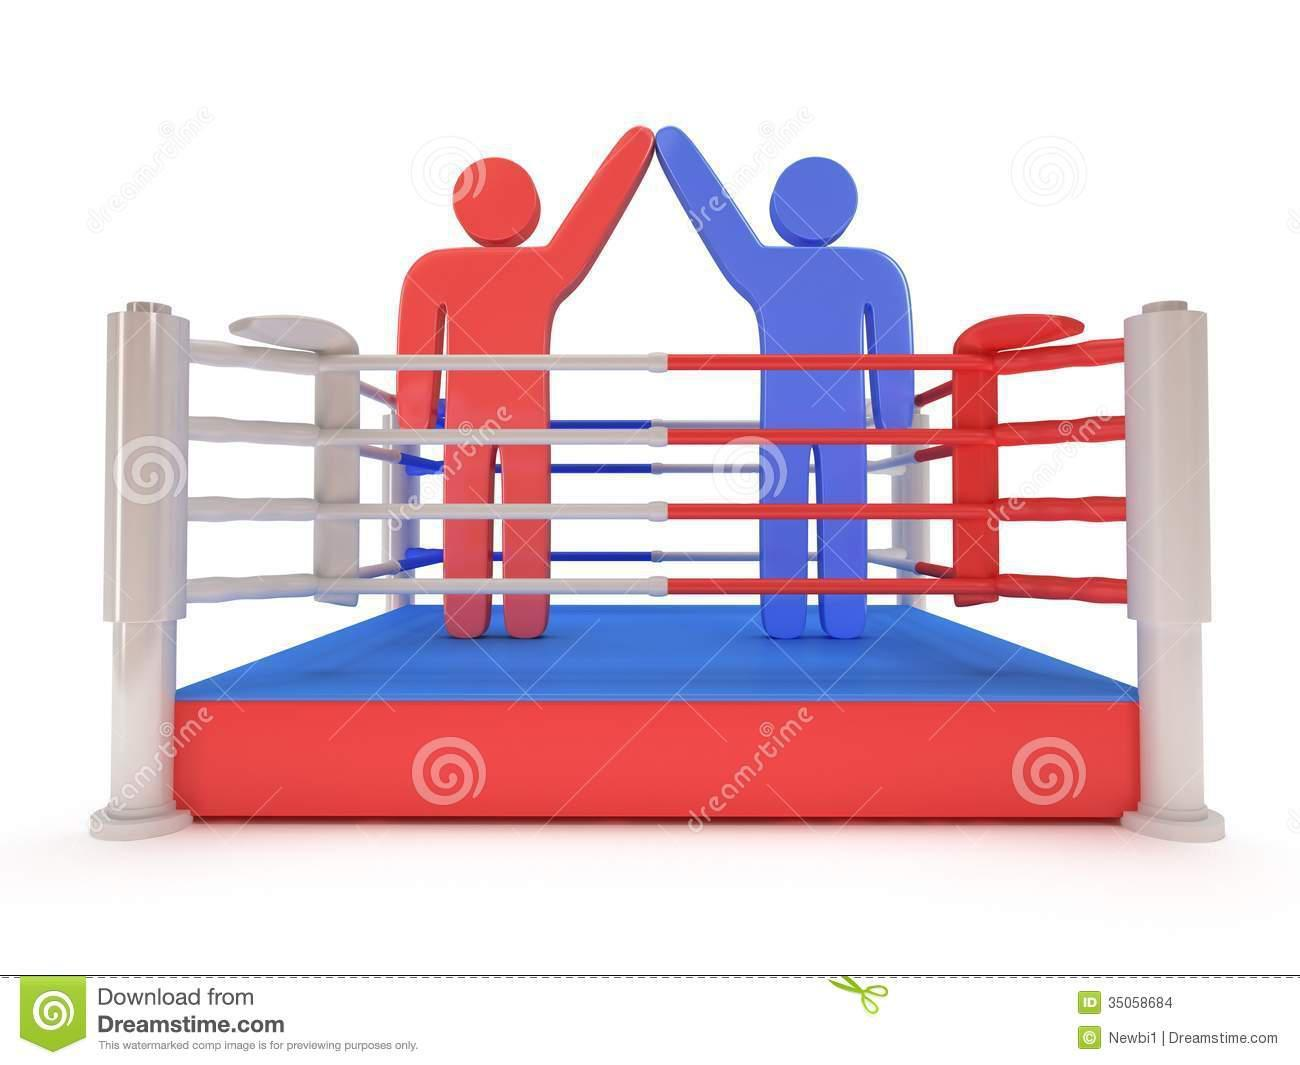person: (653, 121, 920, 647), (387, 118, 652, 640)
